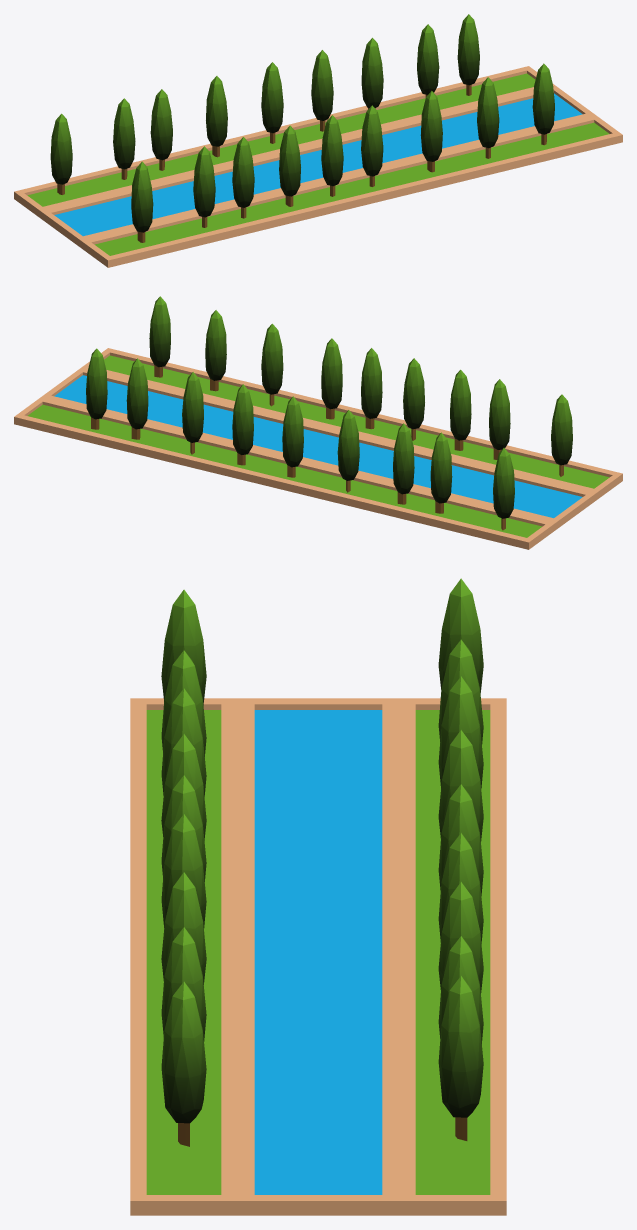
File: middle block.fbx
3 views of the same model, one above another, from view 1: azimuth 30°, elevation 25°; view 2: azimuth 150°, elevation 25°; view 3: azimuth 270°, elevation 25° (orthographic). The views are drawn at different scales.
Parts seen in each view (by area): view 1: garden tree.019; view 2: garden tree.019; view 3: garden tree.019.
Part boxes in pixels (x1=…): garden tree.019: x1=14, y1=14, x2=622, y2=267; garden tree.019: x1=14, y1=296, x2=622, y2=549; garden tree.019: x1=130, y1=578, x2=506, y2=1215.
Bounding box in the file's own units: 66.17 × 10.46 × 20.96.
2 materials, 2 textured.
